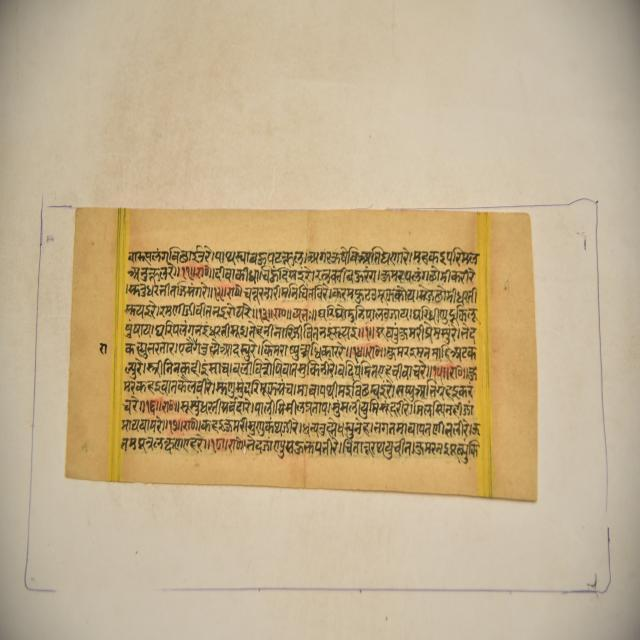text_paragraph: (65, 210, 536, 502)
